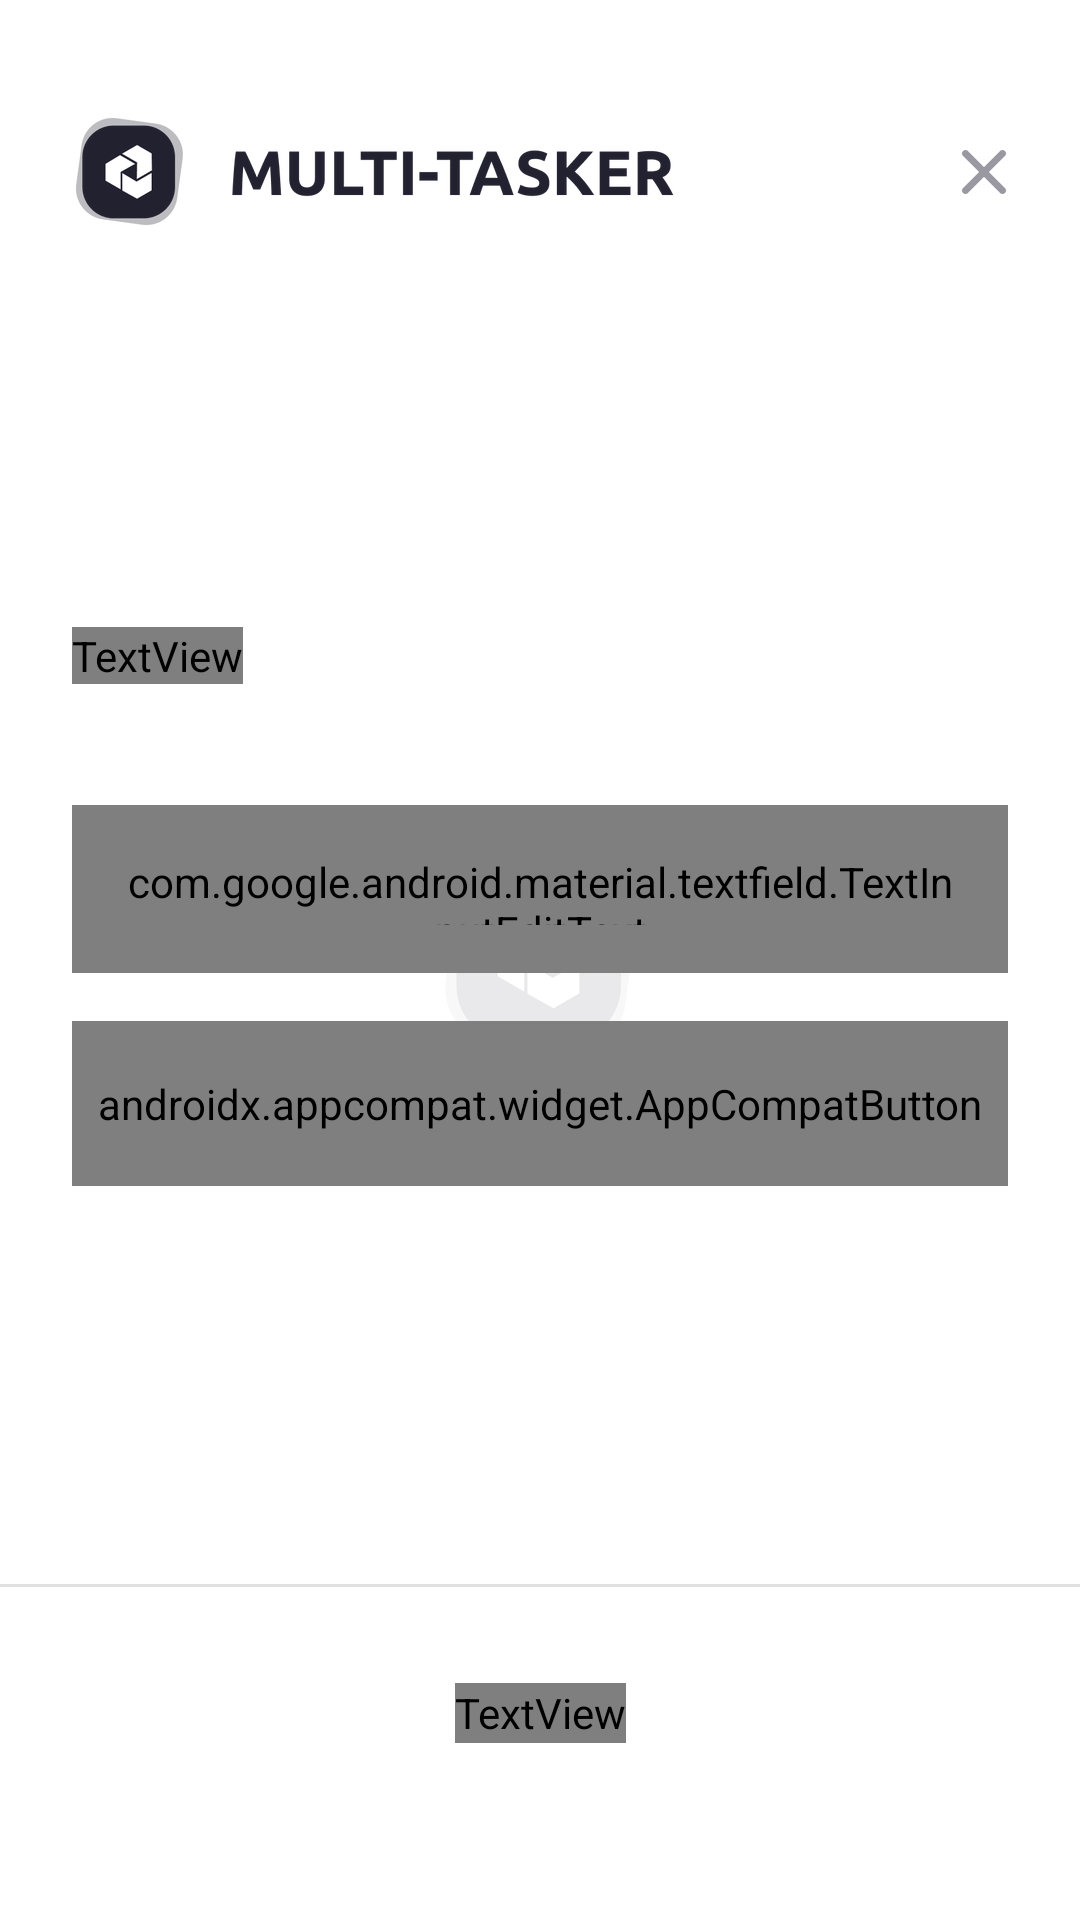

Where to tap for icons on this 1080x1920 app screen, as (x=x, y=y):
close: (x=984, y=172)
